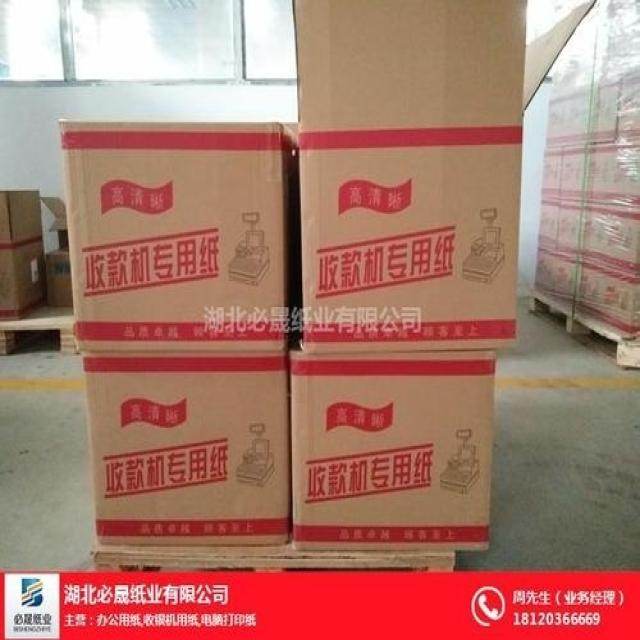box: (59, 119, 298, 353), (291, 348, 495, 553), (83, 351, 289, 547), (573, 263, 640, 335), (579, 209, 640, 280), (584, 142, 640, 214), (0, 240, 47, 321), (0, 189, 44, 251), (547, 86, 591, 148), (588, 76, 620, 142), (614, 69, 640, 142), (558, 144, 586, 209), (553, 206, 582, 263), (549, 255, 579, 309), (45, 247, 72, 305), (41, 196, 69, 251), (540, 148, 563, 206), (536, 203, 558, 257), (534, 247, 554, 299)
